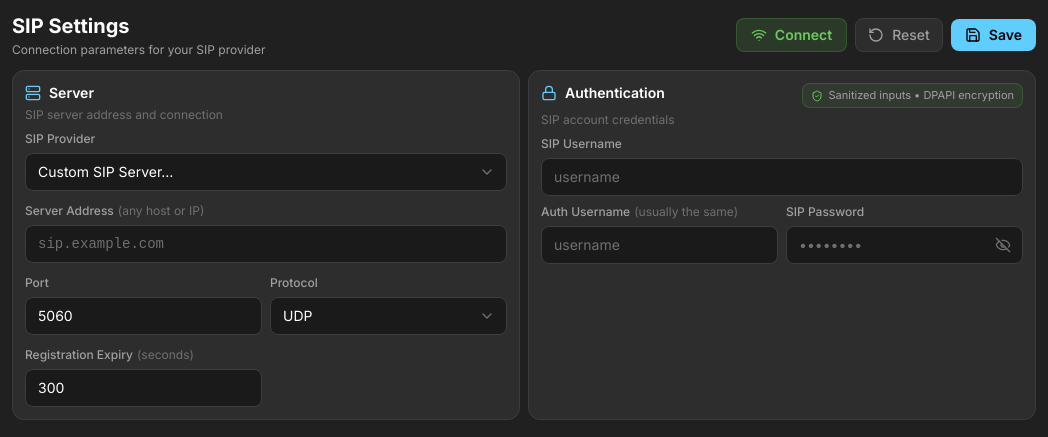
Test: SipSettings › only reveals the password after the user clicks show
Check: the password field with placeholder "••••••••" is empty, box [786,226,1023,264]
Click the button named "show password".
click(1003, 245)  # box [995,237,1011,253]
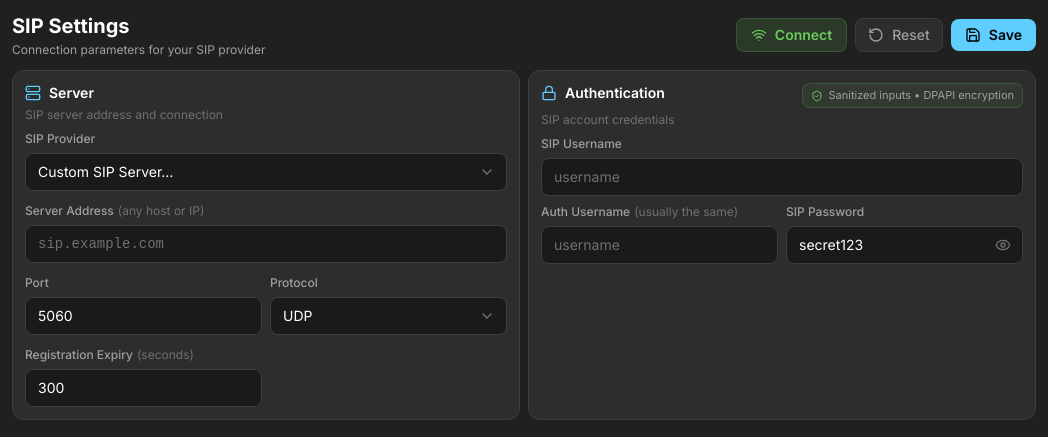
Check: the field with placeholder "••••••••" holds "secret123", box [786,226,1023,264]
